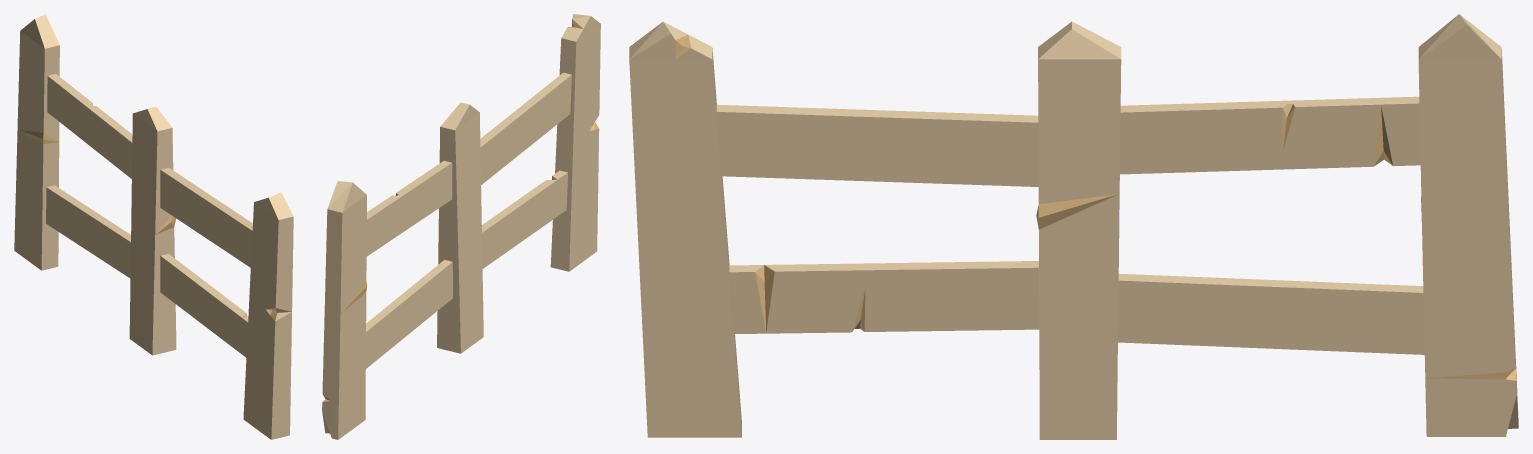
The model's file is barrier.FBX.
The picture shows the model from 3 angles, left to right: view 1: azimuth 30°, elevation 25°; view 2: azimuth 150°, elevation 25°; view 3: azimuth 270°, elevation 25°; orthographic projection. The views are drawn at different scales.
Parts seen in each view (by area): view 1: piquet01, piquet02, piquet03, planche005, planche02, planche03, planche04; view 2: piquet03, piquet01, piquet02, planche005, planche04, planche03, planche02; view 3: piquet01, piquet03, piquet02, planche005, planche02, planche04, planche03.
Part boxes in pixels (x1,y1,x2,y2): piquet01: [243, 192, 293, 439]; piquet02: [129, 107, 176, 355]; piquet03: [14, 14, 59, 270]; planche005: [160, 168, 252, 267]; planche02: [160, 253, 248, 357]; planche03: [47, 73, 132, 178]; planche04: [46, 185, 130, 278]; piquet03: [322, 181, 367, 439]; piquet01: [550, 14, 600, 271]; piquet02: [437, 102, 483, 353]; planche005: [480, 72, 571, 184]; planche04: [366, 260, 452, 368]; planche03: [366, 160, 452, 256]; planche02: [482, 170, 567, 268]; piquet01: [629, 21, 741, 437]; piquet03: [1418, 14, 1518, 436]; piquet02: [1036, 21, 1121, 439]; planche005: [716, 104, 1038, 186]; planche02: [729, 261, 1039, 333]; planche04: [1118, 273, 1424, 354]; planche03: [1120, 96, 1420, 174].
Size of the model in its own units: 5.63 by 54.63 by 107.
